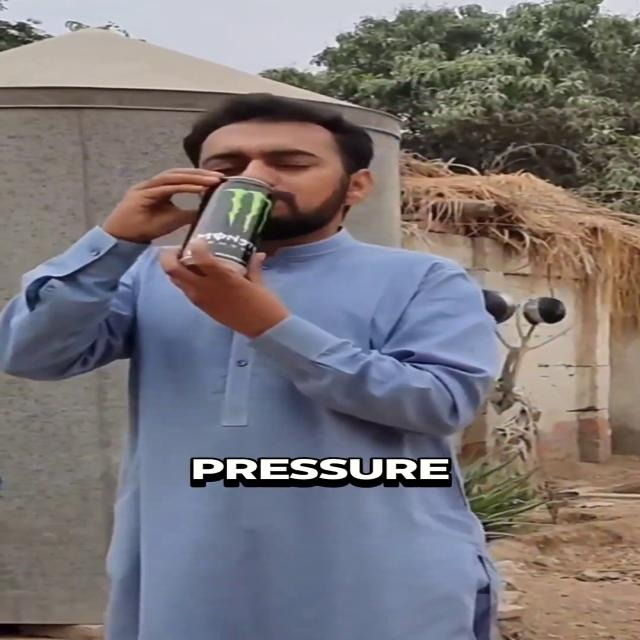Can: (176, 178, 276, 278)
Hand: (163, 236, 274, 306), (119, 164, 234, 222)
Mouth: (220, 193, 300, 211)
